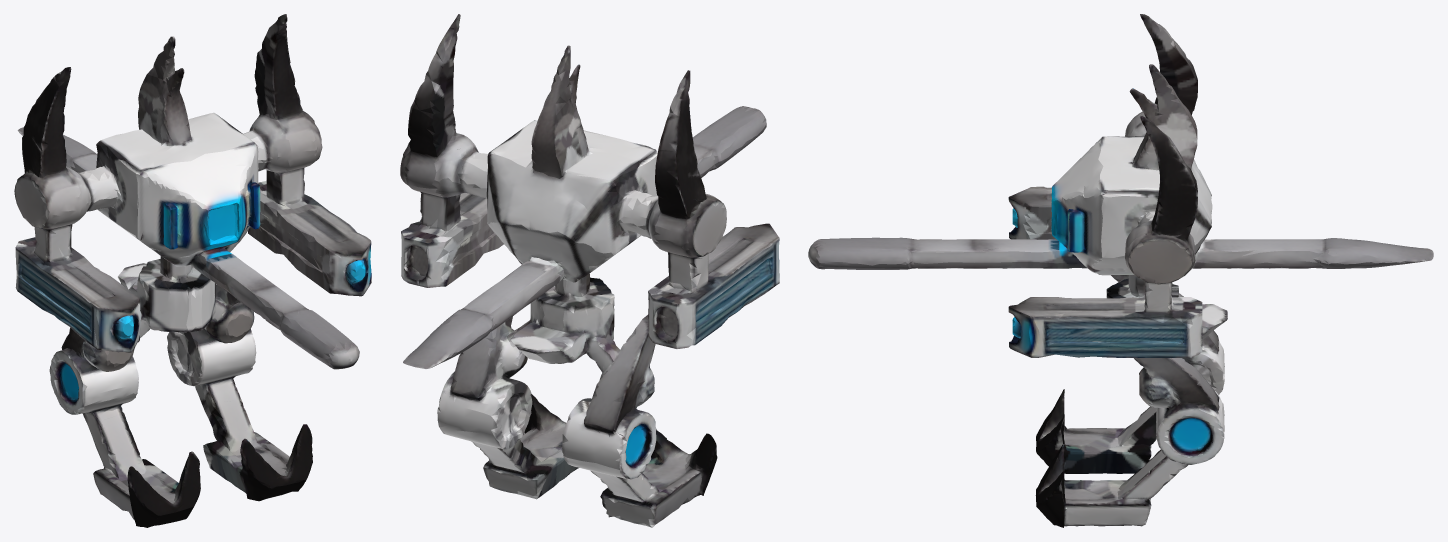
Rendered from architect_concept_art.glb.
The picture shows the model from 3 angles, left to right: view 1: azimuth 30°, elevation 25°; view 2: azimuth 150°, elevation 25°; view 3: azimuth 270°, elevation 25°; orthographic projection. The views are drawn at different scales.
Parts seen in each view (by area): view 1: Architect_Concept_Art; view 2: Architect_Concept_Art; view 3: Architect_Concept_Art.
Boxes of the visible parts, x1,y1,x2,y2 form: Architect_Concept_Art: (14, 14, 371, 527); Architect_Concept_Art: (400, 14, 779, 527); Architect_Concept_Art: (808, 14, 1433, 527).
Size of the model in its own units: 0.9422 by 1.42 by 1.89.
1 material, 1 textured.
